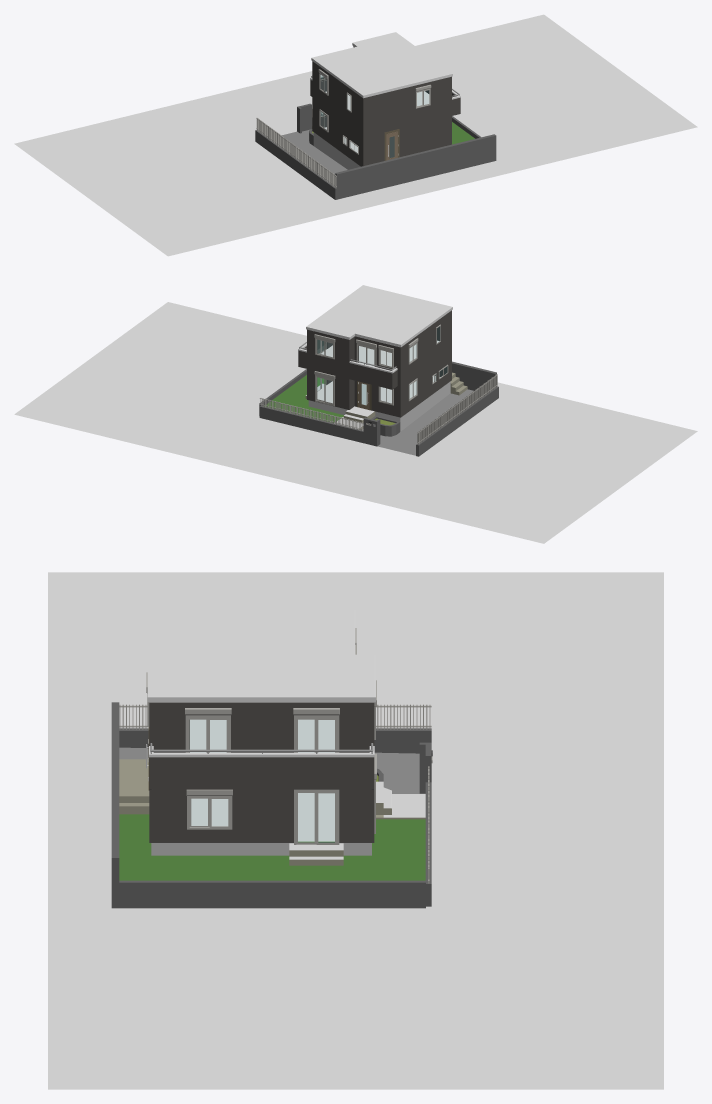
The model's file is tokyo_japanese_house__casa_japonesa_low_poly.glb.
3 views of the same model, one above another, from view 1: azimuth 30°, elevation 25°; view 2: azimuth 150°, elevation 25°; view 3: azimuth 270°, elevation 25° (orthographic). The views are drawn at different scales.
Parts seen in each view (by area): view 1: Carretera, Casa_1, Muro_atr, Muro_2, Plane, Muro_1; view 2: Carretera, Casa_1, Muro_1, Plane, Tierra_G, Muro_2, Muro_atr, Suelo_Piso_B, Suelo_piso_A; view 3: Carretera, Casa_1, Tierra_G, Muro_3, Suelo_Piso_B, Suelo_piso_A, Plane, Muro_2, Muro_atr, Escaleras_D, Baranda_S.001, Muro_1 (+3 smaller).
Boxes of the visible parts, box(x1,y1,x2,y2) form: Carretera: box(14, 14, 697, 256); Casa_1: box(310, 32, 460, 169); Muro_atr: box(335, 134, 496, 199); Muro_2: box(255, 130, 337, 199); Plane: box(282, 129, 347, 174); Muro_1: box(297, 103, 324, 133); Carretera: box(14, 302, 697, 543); Casa_1: box(298, 285, 452, 431); Muro_1: box(259, 405, 380, 446); Plane: box(377, 389, 473, 455); Tierra_G: box(264, 375, 343, 422); Muro_2: box(416, 386, 498, 456); Muro_atr: box(452, 361, 496, 390); Suelo_Piso_B: box(317, 376, 440, 405); Suelo_piso_A: box(321, 340, 439, 366); Carretera: box(48, 572, 663, 1089); Casa_1: box(147, 609, 375, 855); Tierra_G: box(119, 814, 425, 880); Muro_3: box(119, 880, 425, 908); Suelo_Piso_B: box(191, 793, 334, 841); Suelo_piso_A: box(190, 719, 334, 752); Plane: box(119, 747, 425, 793); Muro_2: box(119, 728, 431, 753); Muro_atr: box(111, 702, 119, 908); Escaleras_D: box(119, 759, 149, 814); Baranda_S.001: box(149, 746, 374, 757); Muro_1: box(419, 742, 431, 906).
Size of the model in its own units: 4504 by 752 by 2267.
